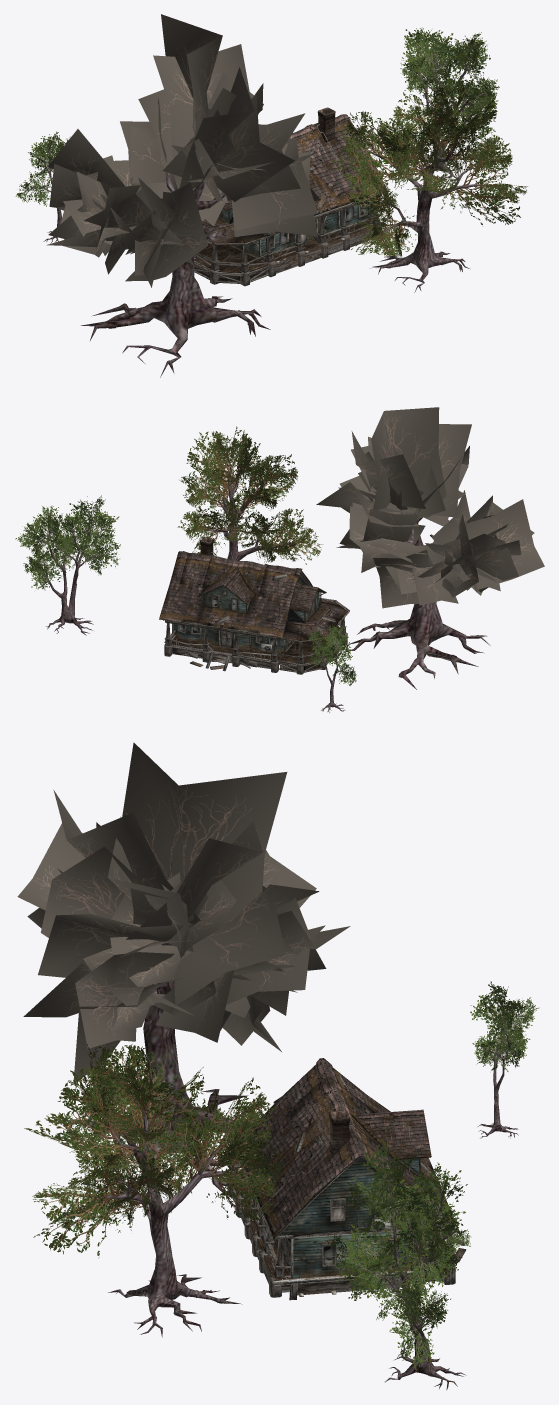
Rendered from DestructiveObjects.obj.
3 views of the same model, one above another, from view 1: azimuth 30°, elevation 25°; view 2: azimuth 150°, elevation 25°; view 3: azimuth 270°, elevation 25° (orthographic). The views are drawn at different scales.
Parts seen in each view (by area): view 1: dry_tree_dry_tree_dry_branch, oak_tree_oak_tree_oak_tree, Object048_Térháló.020_Materi, ash_tree_ash_tree_tree_branch, dry_tree_dry_tree_bark, oak_tree_oak_tree_bark.001, Object002_Térháló.018_Materi, Object009_Térháló.010_Materi, aspen_tree_aspen_tree_tree_bran, Box004_Térháló.009_Material_, ash_tree_ash_tree_bark.001, Object032_Térháló.001_Materi (+2 smaller); view 2: dry_tree_dry_tree_dry_branch, oak_tree_oak_tree_oak_tree, Object048_Térháló.020_Materi, ash_tree_ash_tree_tree_branch, dry_tree_dry_tree_bark, Object002_Térháló.018_Materi, Object001_Térháló.017_Materi, Object009_Térháló.010_Materi, aspen_tree_aspen_tree_tree_bran, ash_tree_ash_tree_bark.001, oak_tree_oak_tree_bark.001, Box004_Térháló.009_Material_ (+2 smaller); view 3: dry_tree_dry_tree_dry_branch, oak_tree_oak_tree_oak_tree, Object048_Térháló.020_Materi, ash_tree_ash_tree_tree_branch, oak_tree_oak_tree_bark.001, dry_tree_dry_tree_bark, aspen_tree_aspen_tree_tree_bran, Object002_Térháló.018_Materi, Object001_Térháló.017_Materi, ash_tree_ash_tree_bark.001, Box004_Térháló.009_Material_, aspen_tree_aspen_tree_bark.001 (+1 smaller).
Part boxes in pixels (x1,y1,x2,y2): dry_tree_dry_tree_dry_branch: [46, 14, 320, 287]; oak_tree_oak_tree_oak_tree: [330, 78, 527, 257]; Object048_Térháló.020_Materi: [232, 114, 386, 265]; ash_tree_ash_tree_tree_branch: [400, 27, 499, 141]; dry_tree_dry_tree_bark: [81, 172, 270, 377]; oak_tree_oak_tree_bark.001: [369, 125, 477, 292]; Object002_Térháló.018_Materi: [194, 149, 381, 283]; Object009_Térháló.010_Materi: [194, 217, 269, 282]; aspen_tree_aspen_tree_tree_bran: [15, 131, 70, 206]; Box004_Térháló.009_Material_: [194, 214, 380, 286]; ash_tree_ash_tree_bark.001: [409, 45, 486, 181]; Object032_Térháló.001_Materi: [212, 198, 377, 263]; dry_tree_dry_tree_dry_branch: [316, 407, 544, 608]; oak_tree_oak_tree_oak_tree: [177, 426, 323, 564]; Object048_Térháló.020_Materi: [159, 551, 312, 660]; ash_tree_ash_tree_tree_branch: [15, 495, 120, 590]; dry_tree_dry_tree_bark: [343, 512, 490, 689]; Object002_Térháló.018_Materi: [163, 572, 349, 672]; Object001_Térháló.017_Materi: [198, 567, 325, 621]; Object009_Térháló.010_Materi: [279, 599, 347, 671]; aspen_tree_aspen_tree_tree_bran: [308, 624, 356, 685]; ash_tree_ash_tree_bark.001: [36, 516, 109, 635]; oak_tree_oak_tree_bark.001: [207, 468, 292, 560]; Box004_Térháló.009_Material_: [164, 626, 347, 674]; dry_tree_dry_tree_dry_branch: [17, 742, 350, 1084]; oak_tree_oak_tree_oak_tree: [24, 1044, 281, 1258]; Object048_Térháló.020_Materi: [239, 1058, 455, 1284]; ash_tree_ash_tree_tree_branch: [327, 1139, 471, 1369]; oak_tree_oak_tree_bark.001: [106, 1104, 242, 1337]; dry_tree_dry_tree_bark: [72, 941, 248, 1212]; aspen_tree_aspen_tree_tree_bran: [470, 981, 539, 1071]; Object002_Térháló.018_Materi: [229, 1073, 466, 1300]; Object001_Térháló.017_Materi: [274, 1097, 431, 1175]; ash_tree_ash_tree_bark.001: [353, 1187, 466, 1390]; Box004_Térháló.009_Material_: [227, 1164, 455, 1297]; aspen_tree_aspen_tree_bark.001: [478, 1010, 520, 1138].
Bounding box in the file's own units: 34.57 × 17.99 × 20.75.
22 materials, 22 textured.
